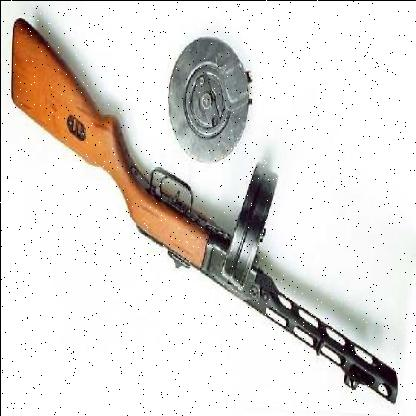rifle: (6, 8, 404, 406)
